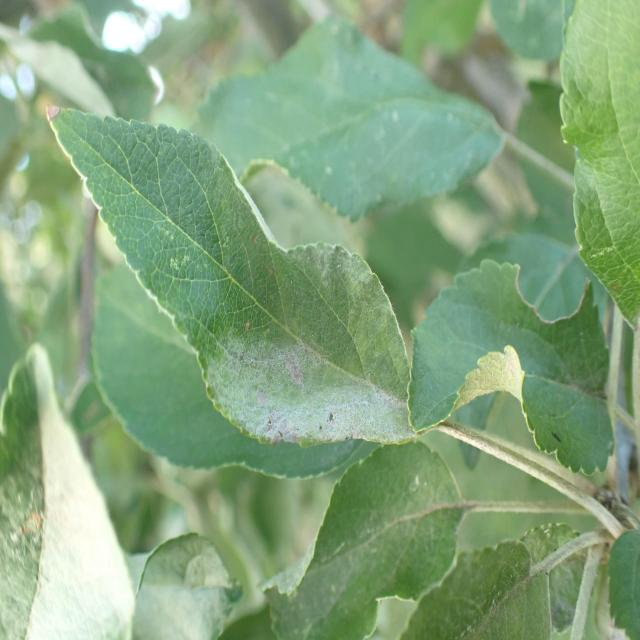Powdery_mildew: (39, 79, 423, 452), (236, 445, 491, 635), (0, 334, 132, 640)
